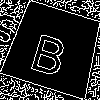B: (28, 23, 73, 78)
